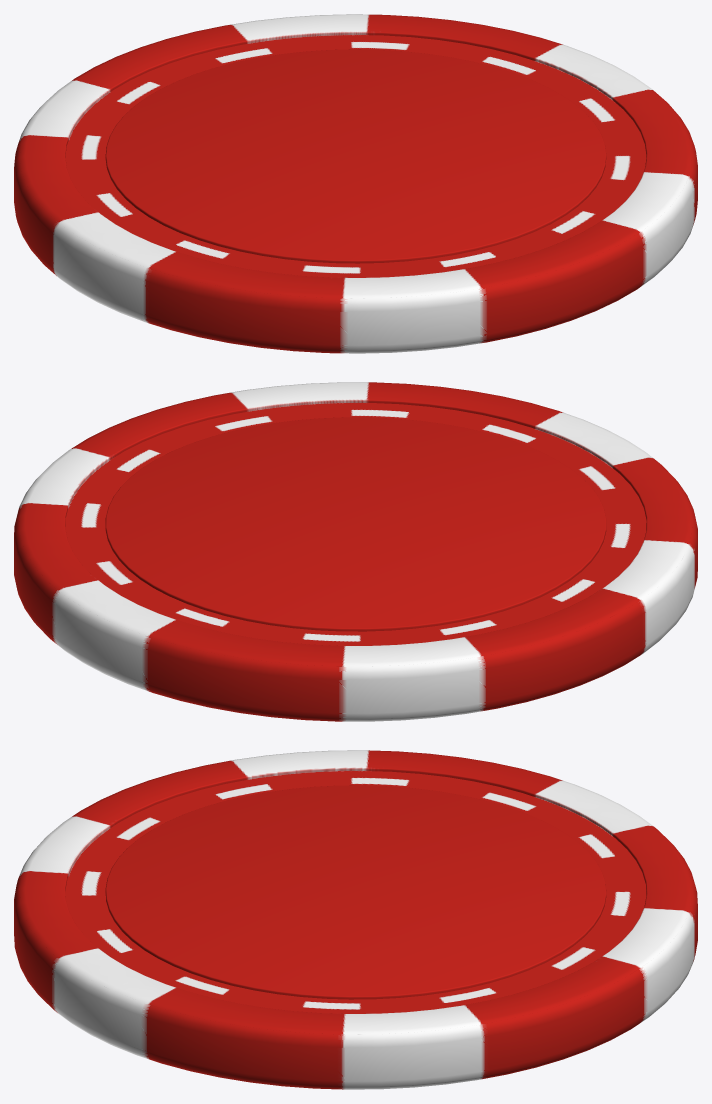
The model's file is red_chip.glb.
The picture shows the model from 3 angles, top to bottom: view 1: azimuth 30°, elevation 25°; view 2: azimuth 150°, elevation 25°; view 3: azimuth 270°, elevation 25°; orthographic projection.
Parts seen in each view (by area): view 1: chips.561_chips_red_bake_0; view 2: chips.561_chips_red_bake_0; view 3: chips.561_chips_red_bake_0.
Boxes of the visible parts, x1,y1,x2,y2 form: chips.561_chips_red_bake_0: (14,14,697,353); chips.561_chips_red_bake_0: (14,382,697,721); chips.561_chips_red_bake_0: (14,750,697,1089).
Bounding box in the file's own units: 2 × 0.1882 × 2.
Materials: 1 (1 with a texture image).
